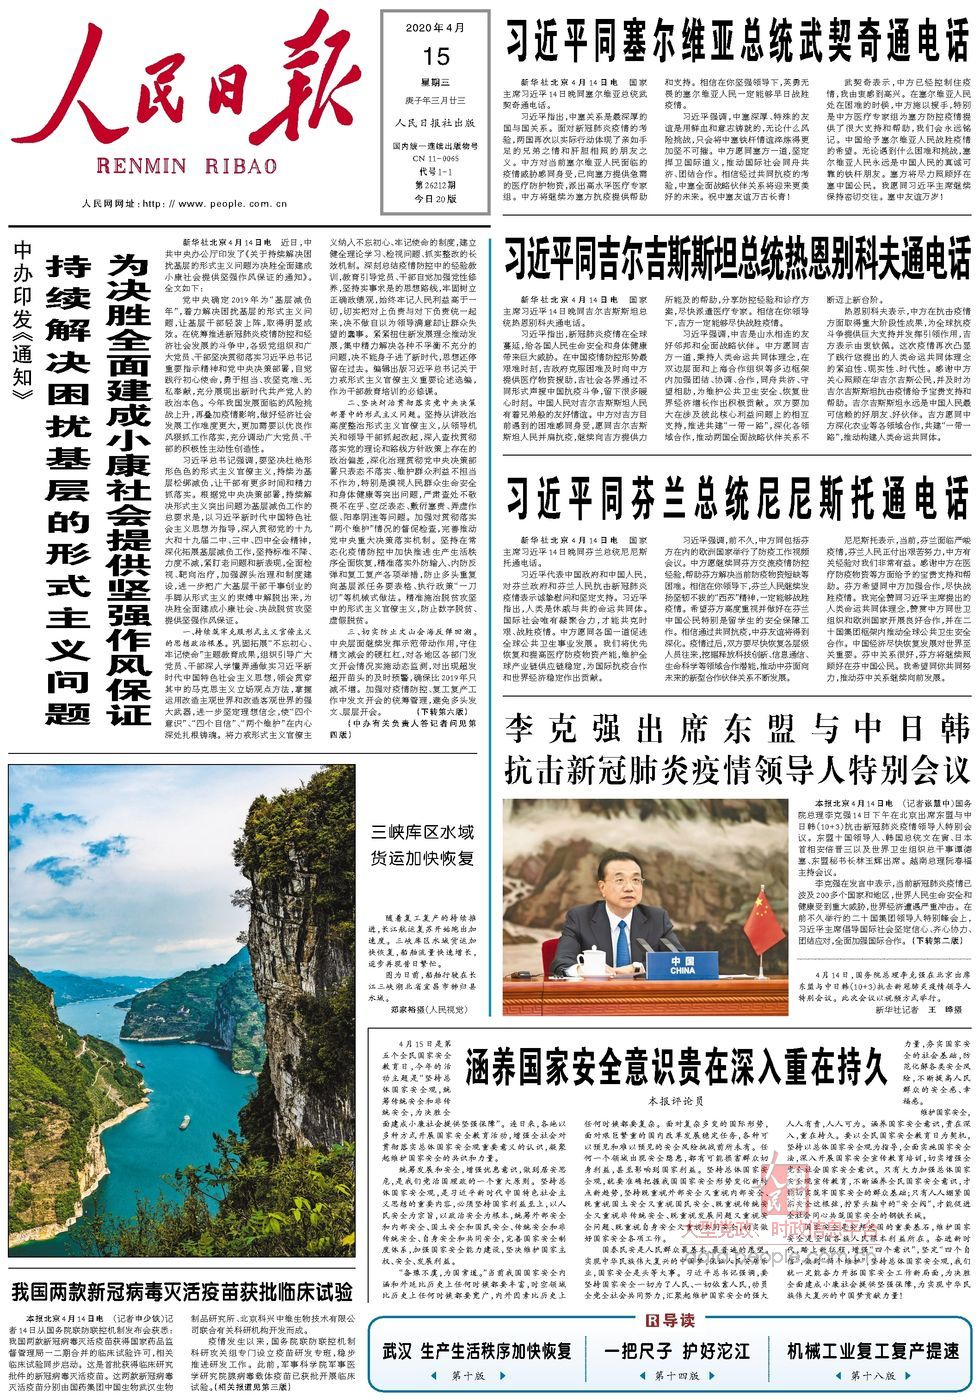pic: (5, 759, 358, 1263), (497, 794, 795, 1020)
